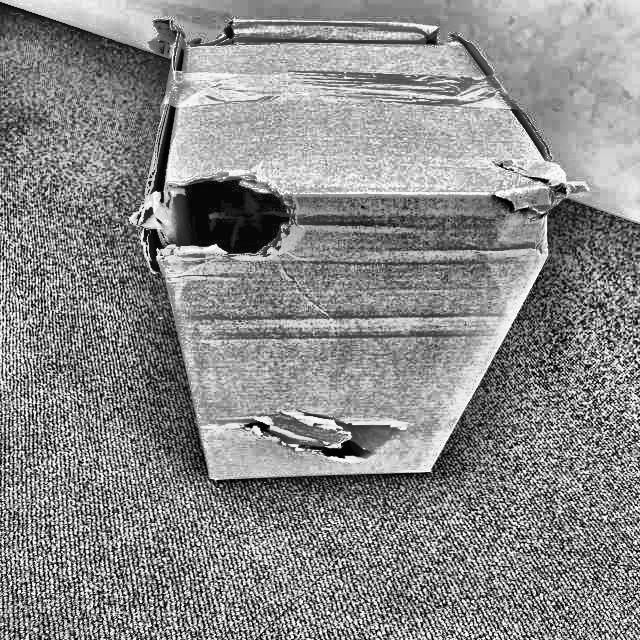box: (134, 20, 595, 484)
hole: (153, 173, 295, 256), (244, 418, 372, 461)
